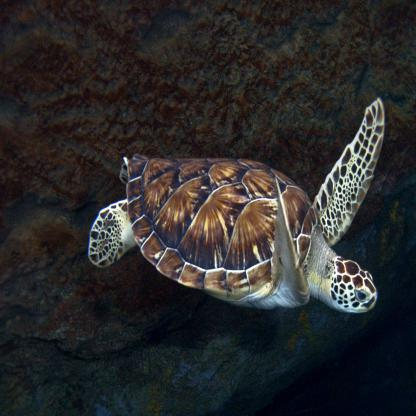turtle: (322, 244, 382, 323)
